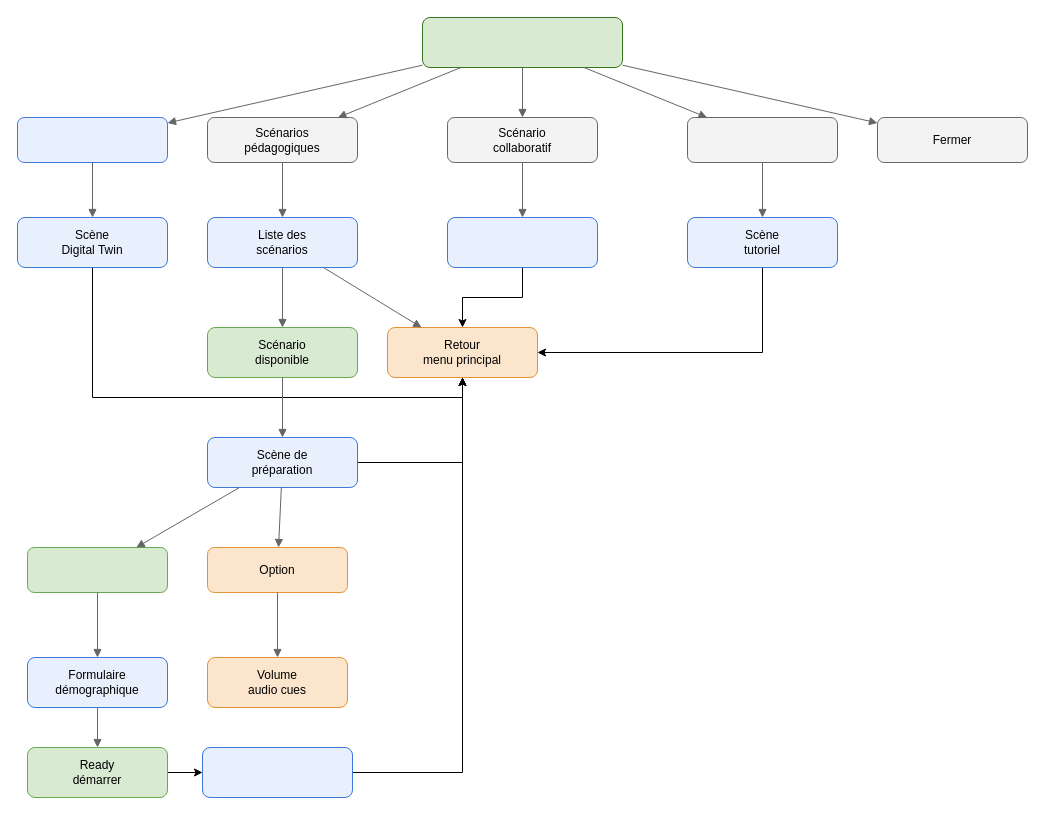
The diagram is 1045 pixels wide and 815 high, and some of its shapes have lost their labels. Each missing label, with the box of its shape:
Digital Twin: (16, 116, 168, 162)
Menu principal: (422, 16, 622, 68)
Scène collaborative: (446, 216, 598, 268)
Scène du Scénario disponible: (202, 746, 352, 798)
Start: (26, 546, 168, 592)
Tutoriel: (686, 116, 838, 162)
